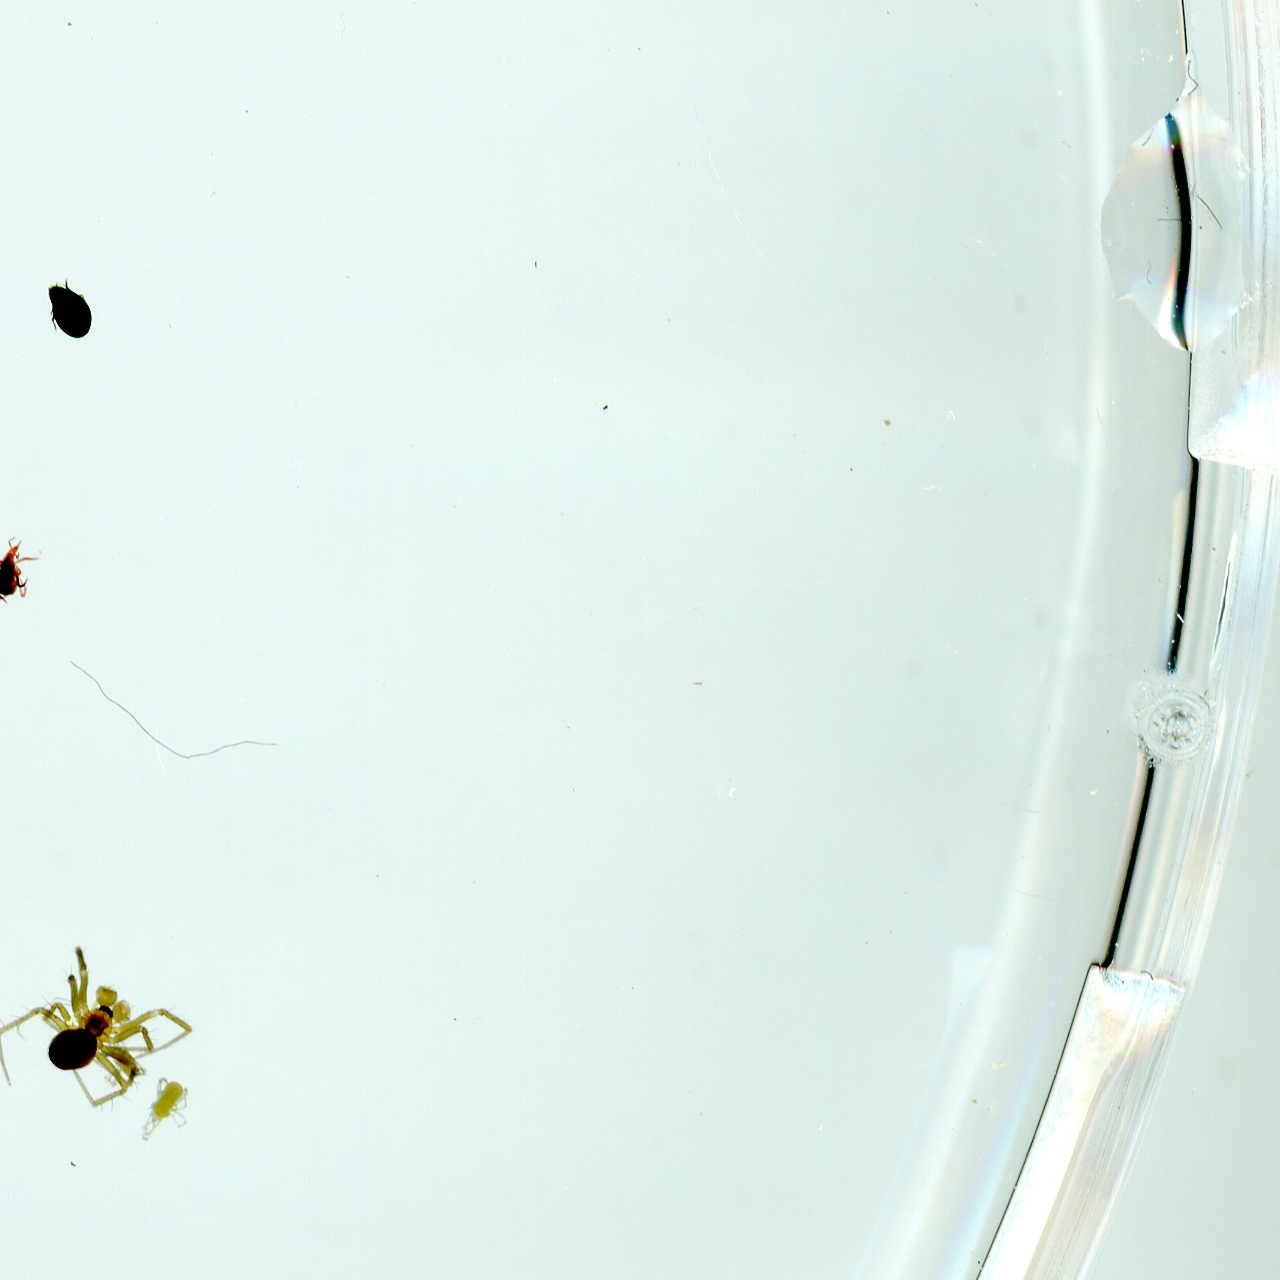arthropod: (0, 934, 200, 1116), (128, 1068, 205, 1156), (36, 270, 96, 342), (0, 518, 40, 613)
